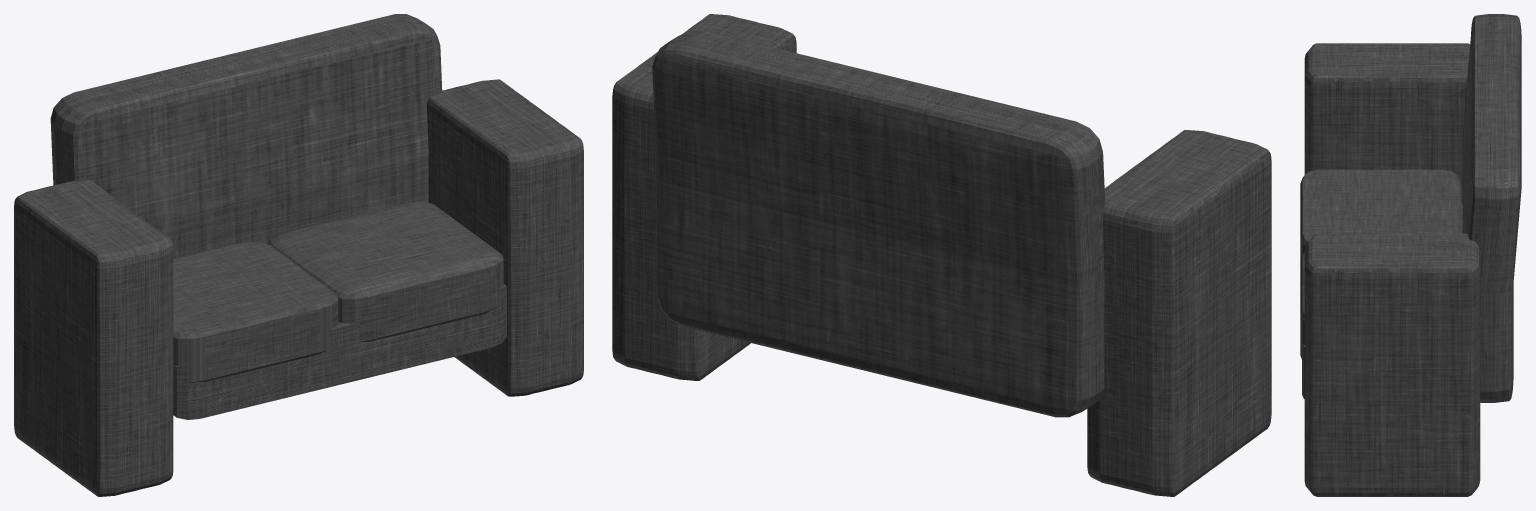
Rendered from sofa.fbx.
3 renders of one model, left to right at view 1: azimuth 30°, elevation 25°; view 2: azimuth 150°, elevation 25°; view 3: azimuth 270°, elevation 25°, orthographic. The views are drawn at different scales.
Visible parts, largest first — view 1: sofa, almofadas sofa; view 2: sofa; view 3: sofa, almofadas sofa.
Boxes of the visible parts, x1=… form: sofa: x1=14, y1=14, x2=583, y2=496; almofadas sofa: x1=173, y1=201, x2=503, y2=382; sofa: x1=612, y1=14, x2=1271, y2=496; sofa: x1=1302, y1=14, x2=1521, y2=496; almofadas sofa: x1=1300, y1=169, x2=1461, y2=361.
Size of the model in its own units: 91.45 by 55.18 by 37.81.
